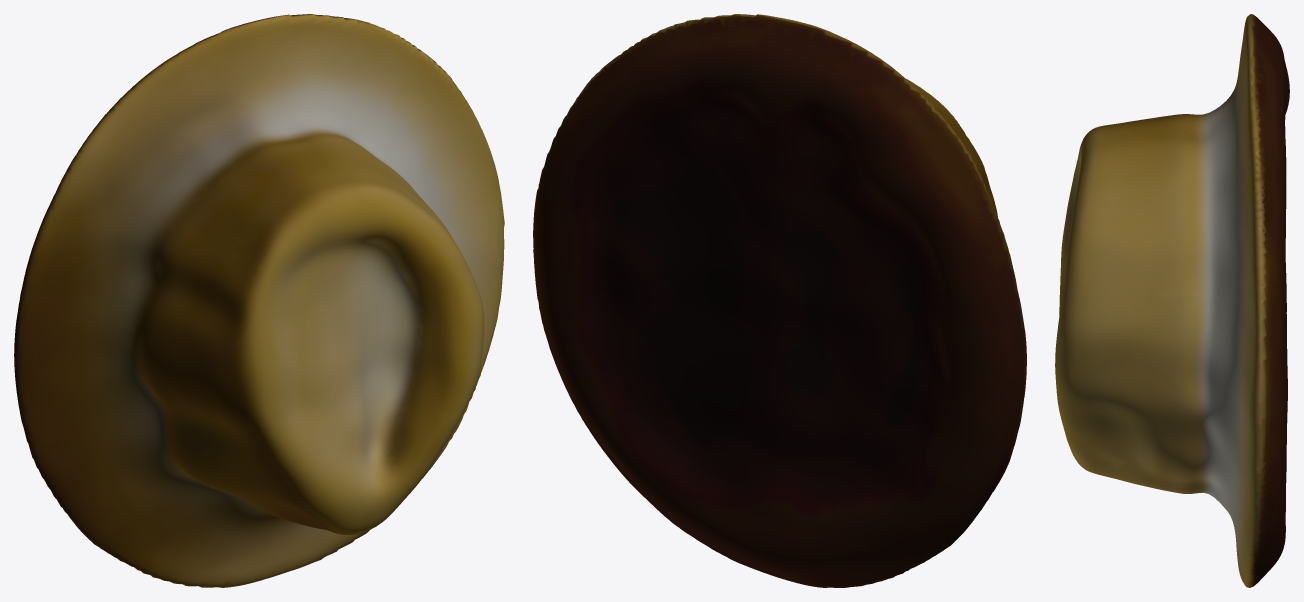
File: hat.glb
3 renders of one model, left to right at view 1: azimuth 30°, elevation 25°; view 2: azimuth 150°, elevation 25°; view 3: azimuth 270°, elevation 25°, orthographic. The views are drawn at different scales.
Size of the model in its own units: 0.9134 by 0.9974 by 0.4068.
